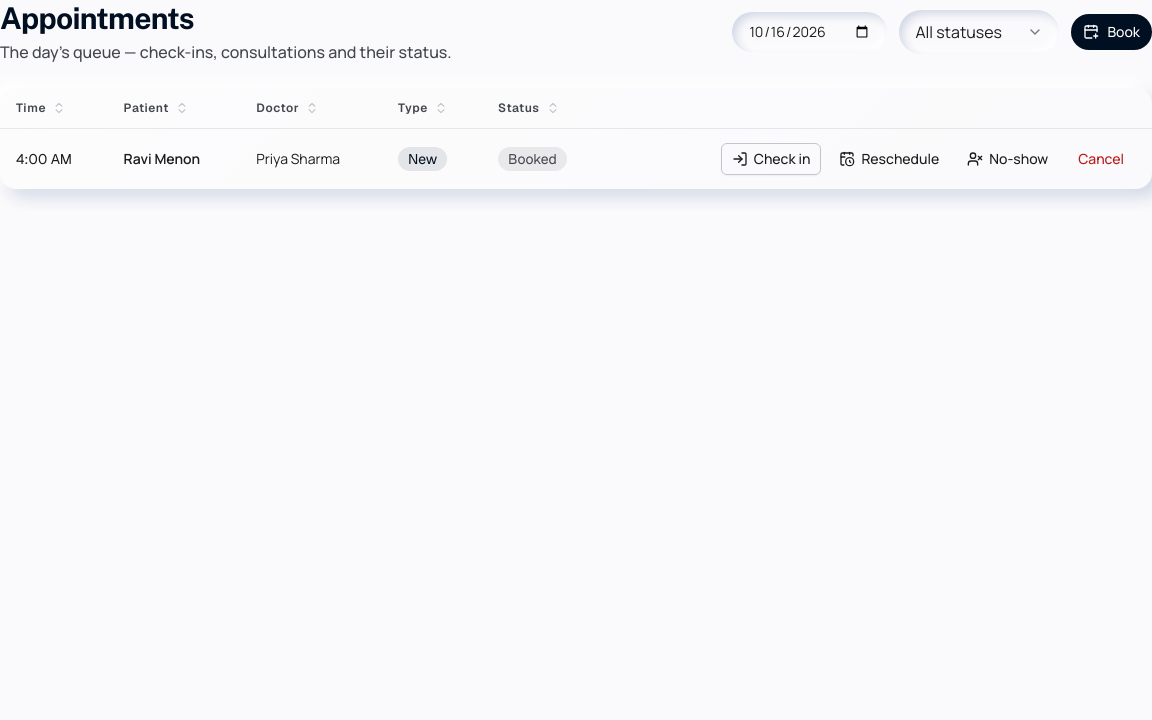
the reschedule dialog › will not go on without a new slot
Click the button "Reschedule": (889, 159) [829,143,949,175]
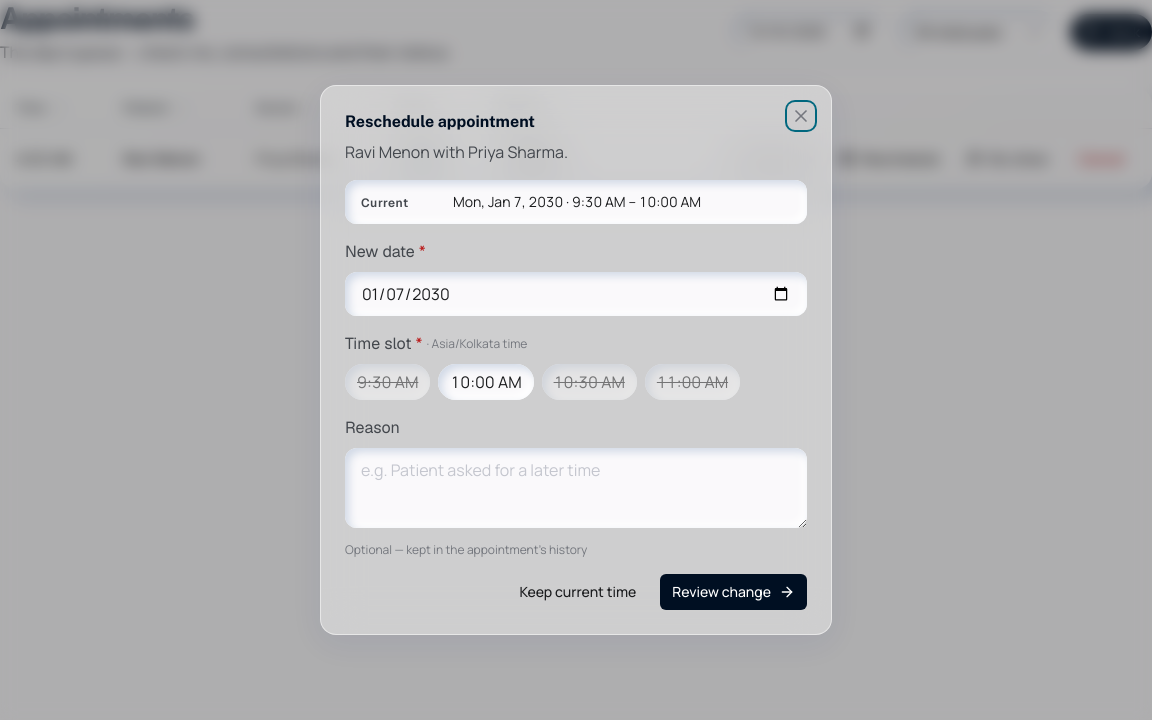
Now the element named "Time slots" is shown, box [345,332,807,400]
Click the button "Review change": (734, 592) [660,574,807,610]
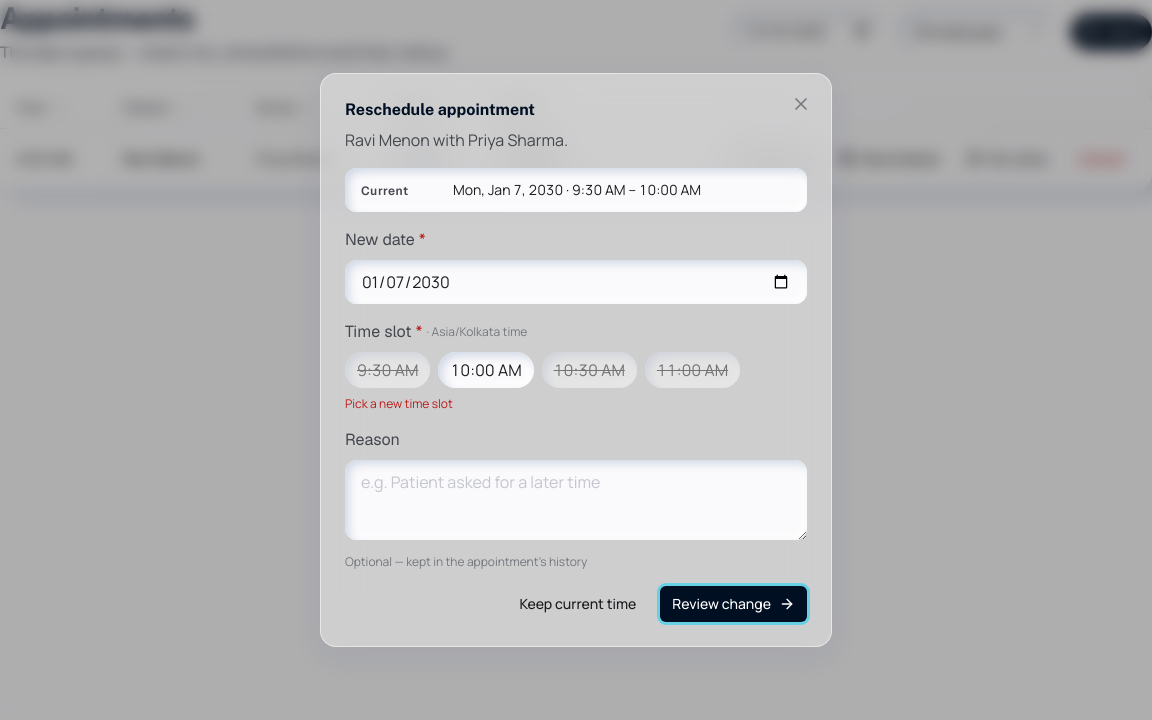
Now the text "Pick a new time slot" is shown, box [345,395,453,412]
